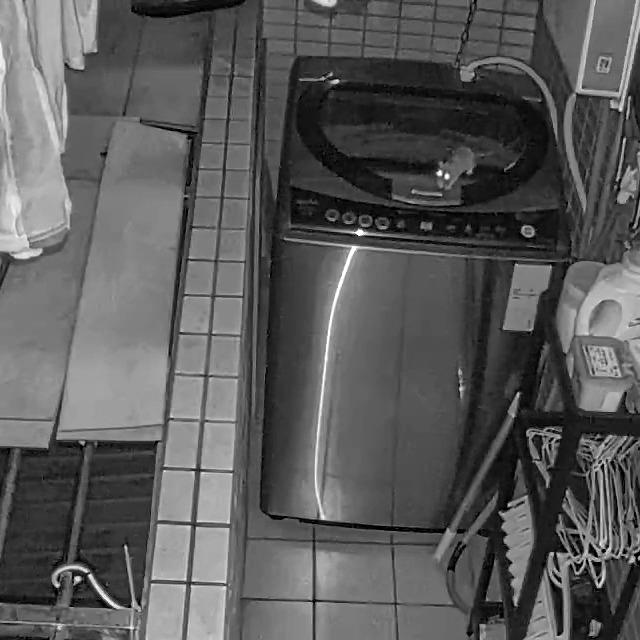rat: (436, 138, 521, 192)
